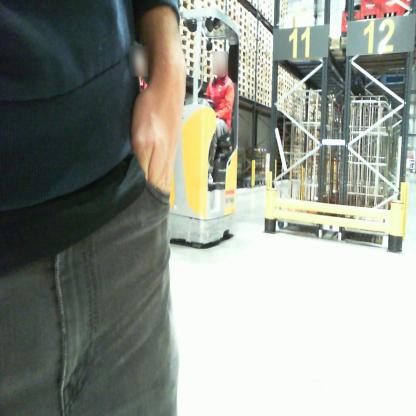forklift: (159, 5, 243, 258)
pallet: (177, 27, 199, 44), (196, 20, 214, 38), (178, 12, 197, 29), (176, 35, 196, 51), (207, 40, 226, 56), (198, 35, 215, 51), (195, 70, 211, 86), (179, 1, 197, 14), (181, 63, 195, 78), (197, 53, 212, 67), (198, 64, 213, 77), (211, 37, 225, 49), (226, 4, 238, 16), (247, 44, 256, 59), (237, 13, 248, 25), (183, 56, 196, 66), (235, 62, 246, 73), (246, 20, 257, 31), (182, 48, 194, 58), (237, 28, 249, 38), (237, 40, 246, 53), (215, 2, 225, 13), (226, 12, 237, 22), (235, 67, 246, 77), (245, 65, 256, 75), (248, 28, 258, 39), (236, 5, 248, 14), (249, 33, 258, 45), (247, 39, 255, 52), (257, 44, 265, 57), (246, 60, 256, 70), (238, 19, 247, 30), (238, 34, 247, 45), (235, 83, 246, 92), (254, 73, 265, 82), (203, 2, 217, 9), (236, 76, 246, 85), (246, 87, 256, 96), (247, 54, 256, 64), (246, 94, 257, 102), (238, 55, 247, 64), (237, 91, 246, 100), (246, 81, 255, 90), (257, 84, 266, 93), (257, 66, 266, 75), (247, 74, 255, 84), (238, 50, 246, 59), (257, 55, 265, 64), (257, 41, 265, 50), (257, 28, 265, 37), (256, 97, 265, 104), (257, 35, 266, 42), (258, 59, 264, 69), (256, 92, 264, 99), (257, 79, 265, 86), (228, 1, 237, 7), (217, 2, 226, 4)
